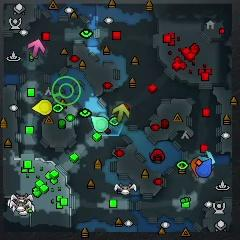p1: (197, 158, 212, 180)
p2: (92, 116, 108, 133)
p4: (32, 100, 52, 116)
p5: (192, 159, 201, 180)
x1: (27, 40, 45, 60)
x2: (114, 103, 129, 122)
x3: (196, 151, 216, 164)
